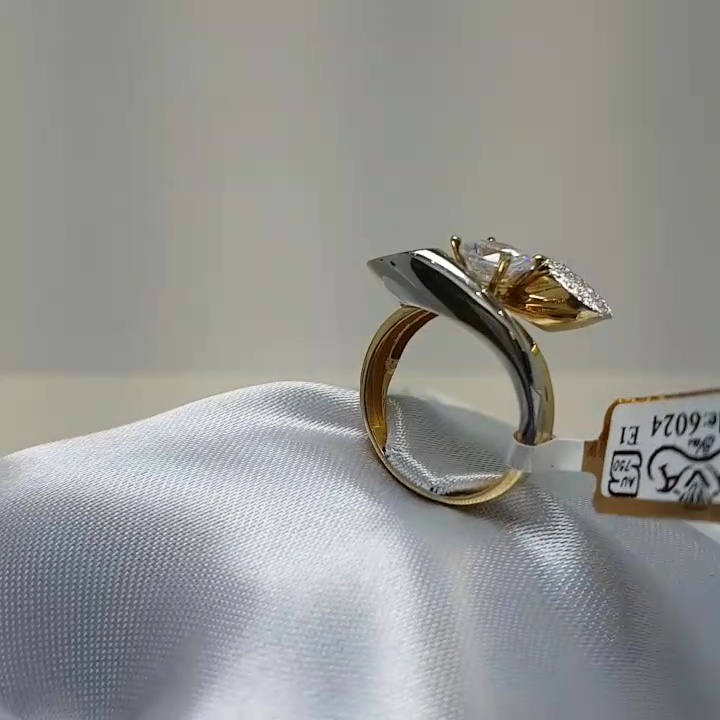Ring 7: (329, 207, 624, 508)
